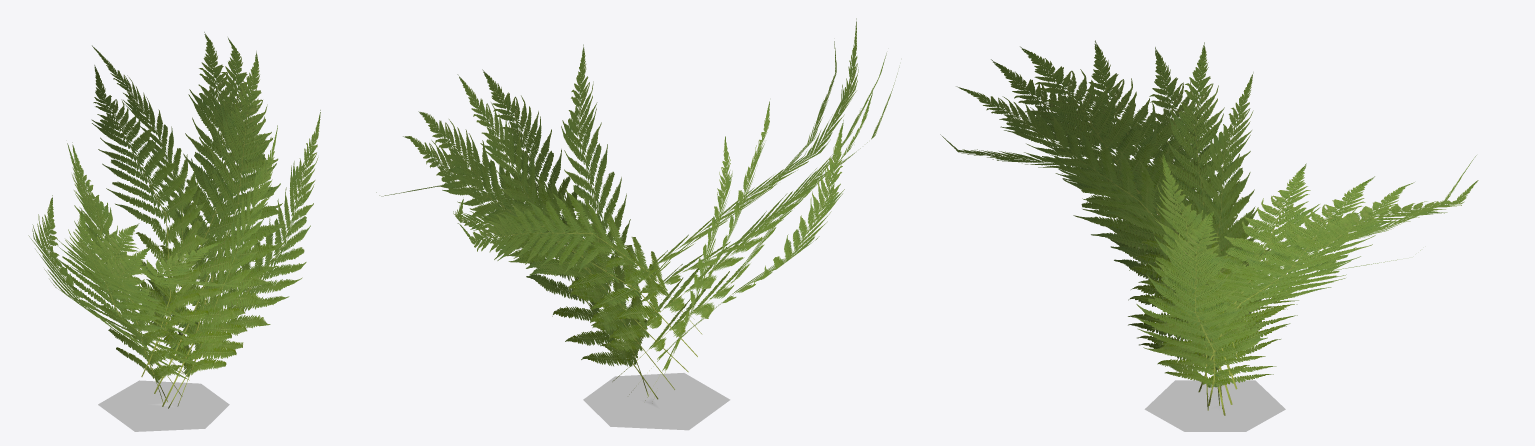
The model's file is fern.fbx.
3 renders of one model, left to right at view 1: azimuth 30°, elevation 25°; view 2: azimuth 150°, elevation 25°; view 3: azimuth 270°, elevation 25°, orthographic. The views are drawn at different scales.
Parts seen in each view (by area): view 1: fern02_1, _0; view 2: fern02_1, _0; view 3: fern02_1, _0.
Boxes of the visible parts, <box> form: fern02_1: <box>28,32,320,408</box>; _0: <box>98,380,229,431</box>; fern02_1: <box>376,18,899,400</box>; _0: <box>583,373,730,430</box>; fern02_1: <box>940,40,1478,415</box>; _0: <box>1144,380,1285,431</box>.
Size of the model in its own units: 84.36 by 77.39 by 124.
Materials: 1 (1 with a texture image).
